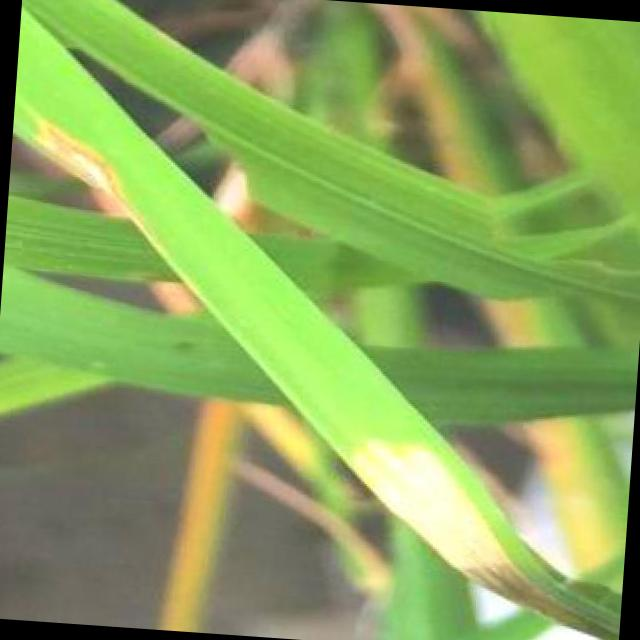Rice_Blast: (27, 97, 144, 210)
